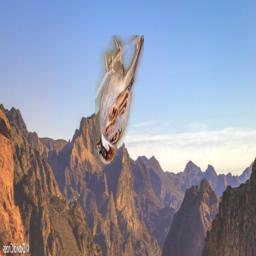Sparrow: (95, 35, 144, 165)
